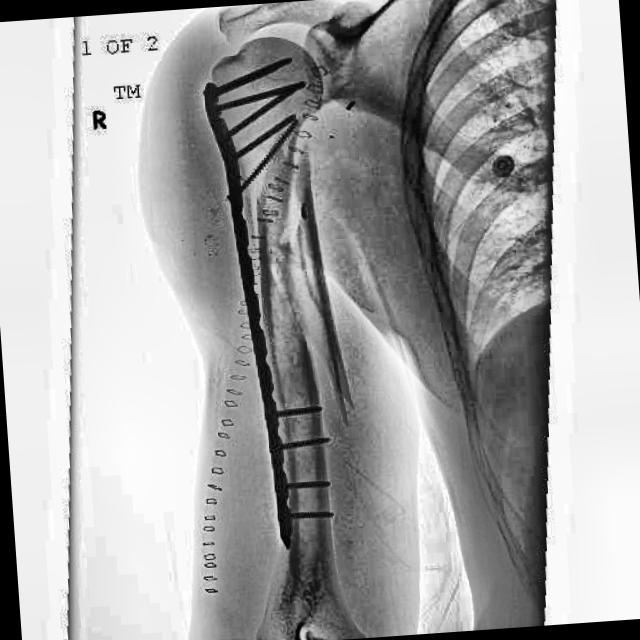humerus: (274, 278, 383, 445)
